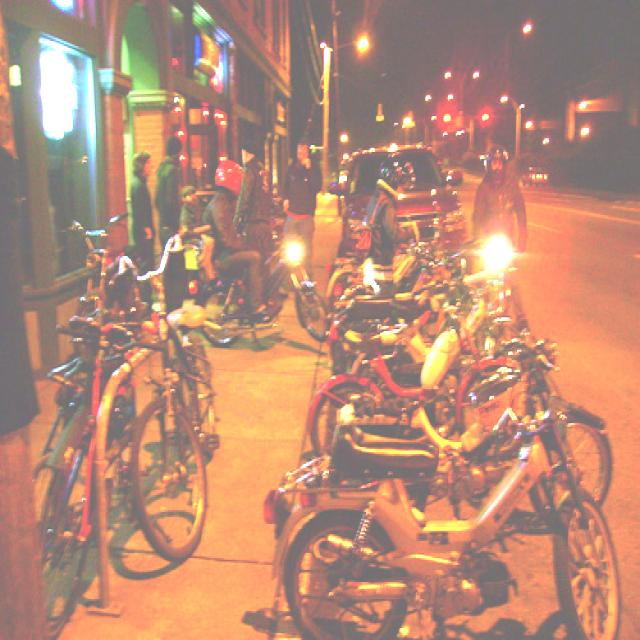Motorbike: (276, 226, 610, 640)
